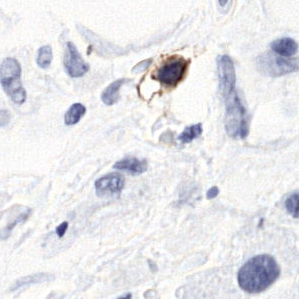Lymphocyte: (152, 55, 192, 83)
